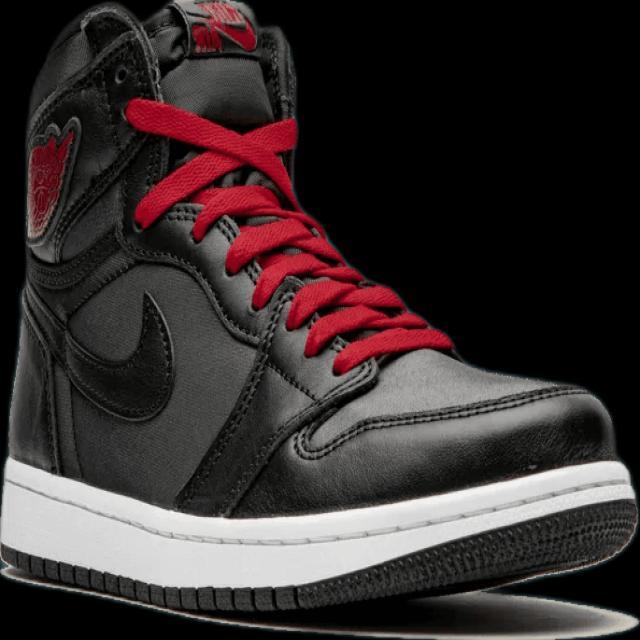J1_InsoleChar: (0, 0, 638, 621)
J1_ShoeLogo: (25, 114, 82, 241), (188, 0, 258, 54)
J1_StitchPattern: (171, 24, 382, 515), (1, 467, 637, 614), (124, 96, 455, 375), (174, 272, 308, 511), (289, 377, 591, 460), (4, 547, 300, 613)
